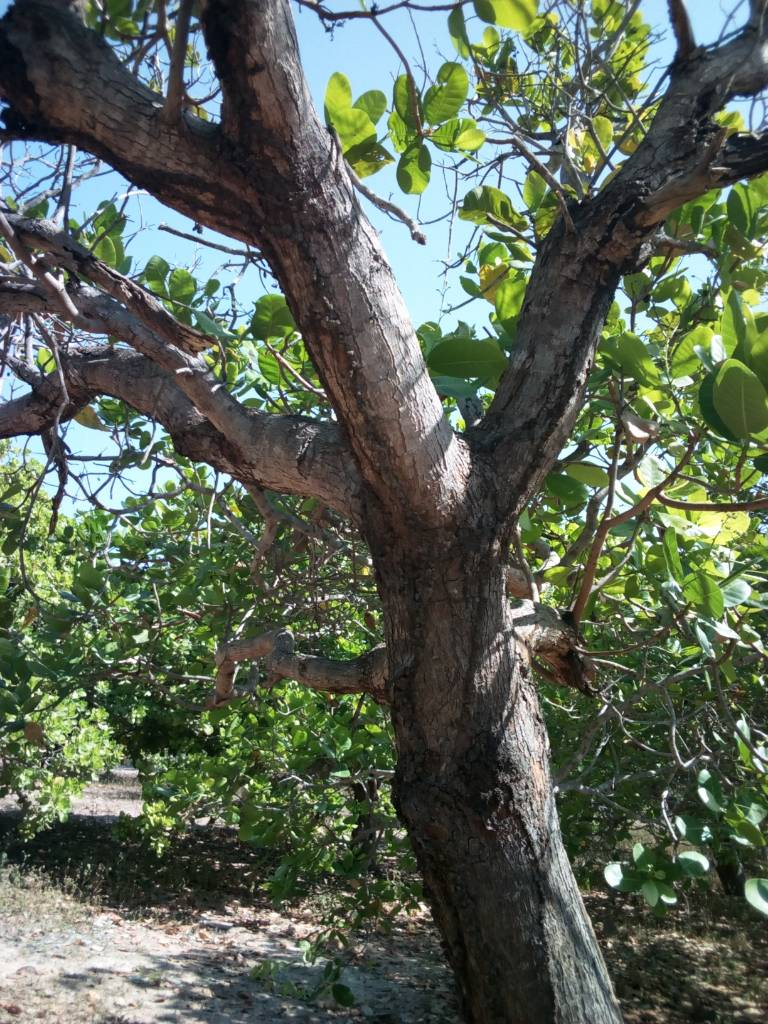Termites: (422, 824, 557, 997), (400, 530, 490, 789)
